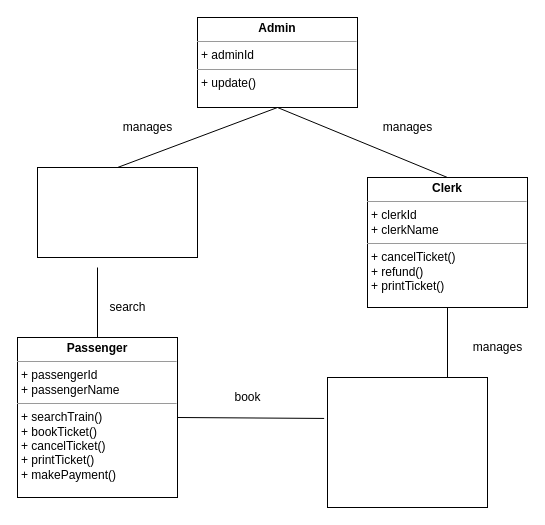
Image size: 545x525. Some labels were removed from this diagram. The box of each missing label's shape, as (x1, y1, x2, y2) in pixels:
Ticket + ticketNo + passengerId + passengerNo + totalAmount() + cancelTicket(): (326, 376, 488, 508)
Train + trainNo + trainName + trainStatus(): (36, 166, 198, 258)
